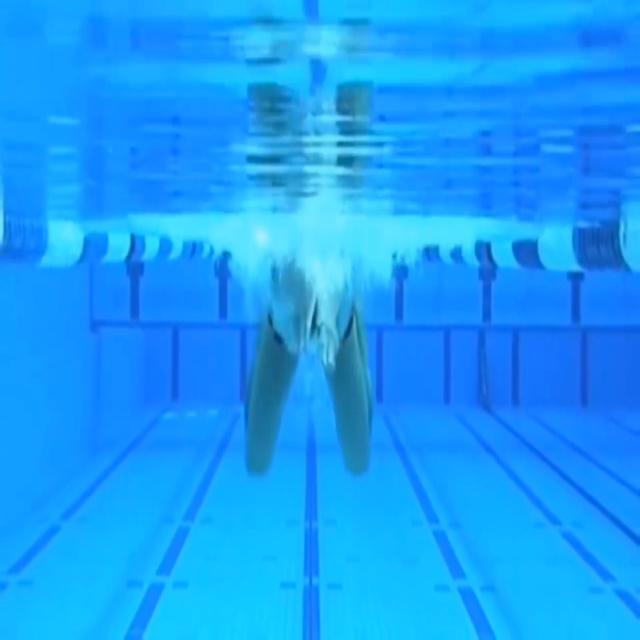Swimming: (244, 253, 374, 478)
